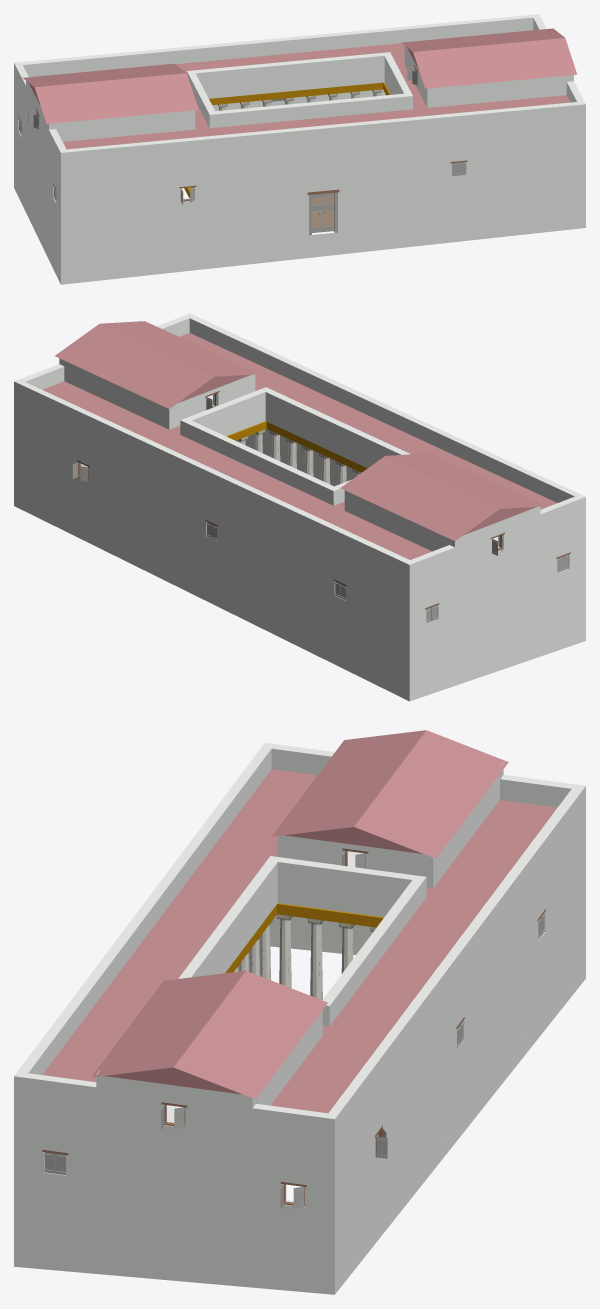
File: LOD_Block_3_13.glb
3 views of the same model, one above another, from view 1: azimuth 30°, elevation 25°; view 2: azimuth 150°, elevation 25°; view 3: azimuth 270°, elevation 25° (orthographic). The views are drawn at different scales.
Parts seen in each view (by area): view 1: _1.4034; view 2: _1.4034; view 3: _1.4034.
Part boxes in pixels (x1=…): _1.4034: x1=14, y1=14, x2=585, y2=284; _1.4034: x1=14, y1=313, x2=585, y2=701; _1.4034: x1=14, y1=730, x2=585, y2=1294.
Size of the model in its own units: 39.24 by 11.44 by 25.19.
3 materials, 3 textured.
